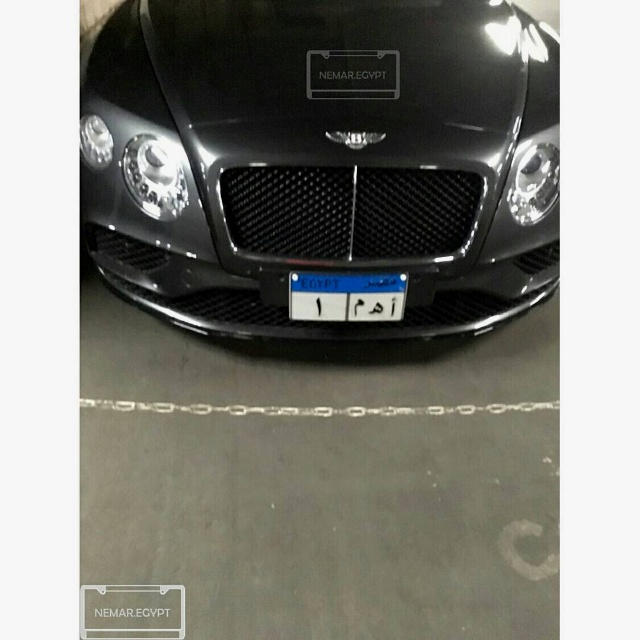License Plate: (285, 267, 412, 326)
